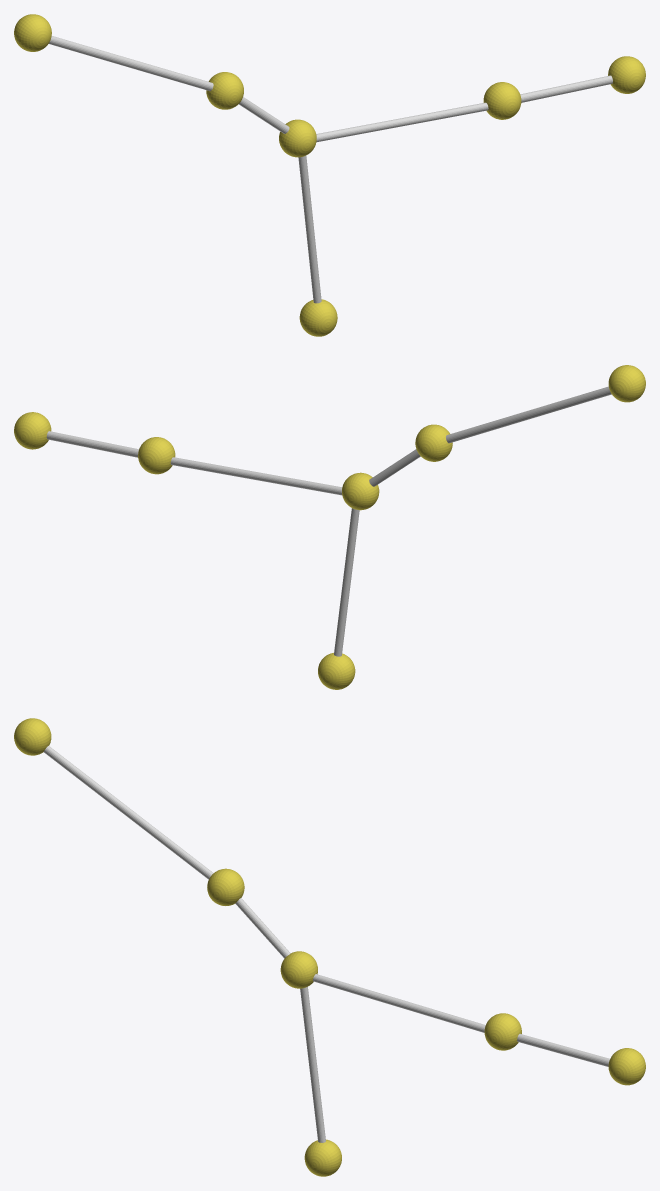
The model's file is cancer.glb.
3 views of the same model, one above another, from view 1: azimuth 30°, elevation 25°; view 2: azimuth 150°, elevation 25°; view 3: azimuth 330°, elevation 25° (orthographic).
Visible parts, largest first — view 1: Mesh_Mesh_head_geo.001_lambert2SG.001; view 2: Mesh_Mesh_head_geo.001_lambert2SG.001; view 3: Mesh_Mesh_head_geo.001_lambert2SG.001.
Boxes of the visible parts, bbox=[...] form: Mesh_Mesh_head_geo.001_lambert2SG.001: bbox=[14, 14, 645, 336]; Mesh_Mesh_head_geo.001_lambert2SG.001: bbox=[14, 365, 645, 689]; Mesh_Mesh_head_geo.001_lambert2SG.001: bbox=[14, 718, 645, 1176].
Bounding box in the file's own units: 192 × 114 × 12.25.
